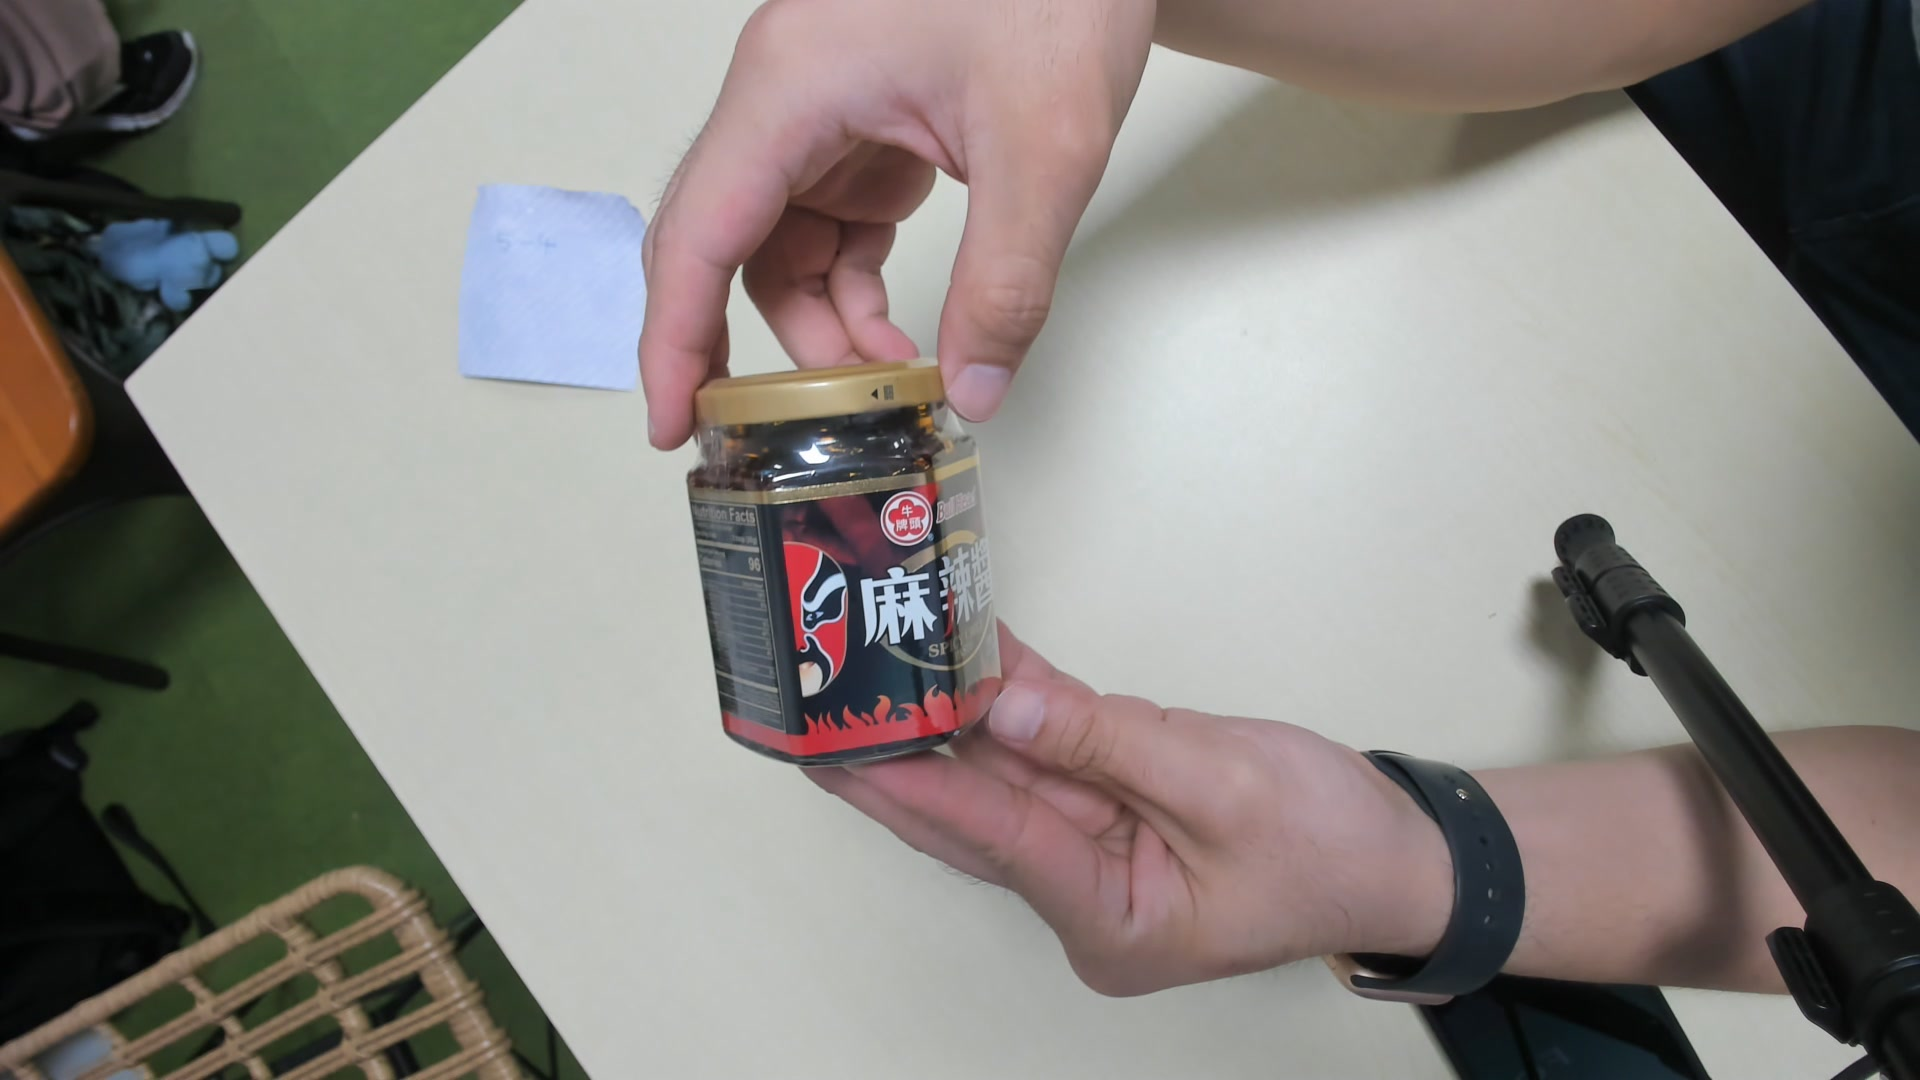OtherSauceDressing_100-199g_NonHalal_NonHealthy: (688, 363, 1010, 771)
